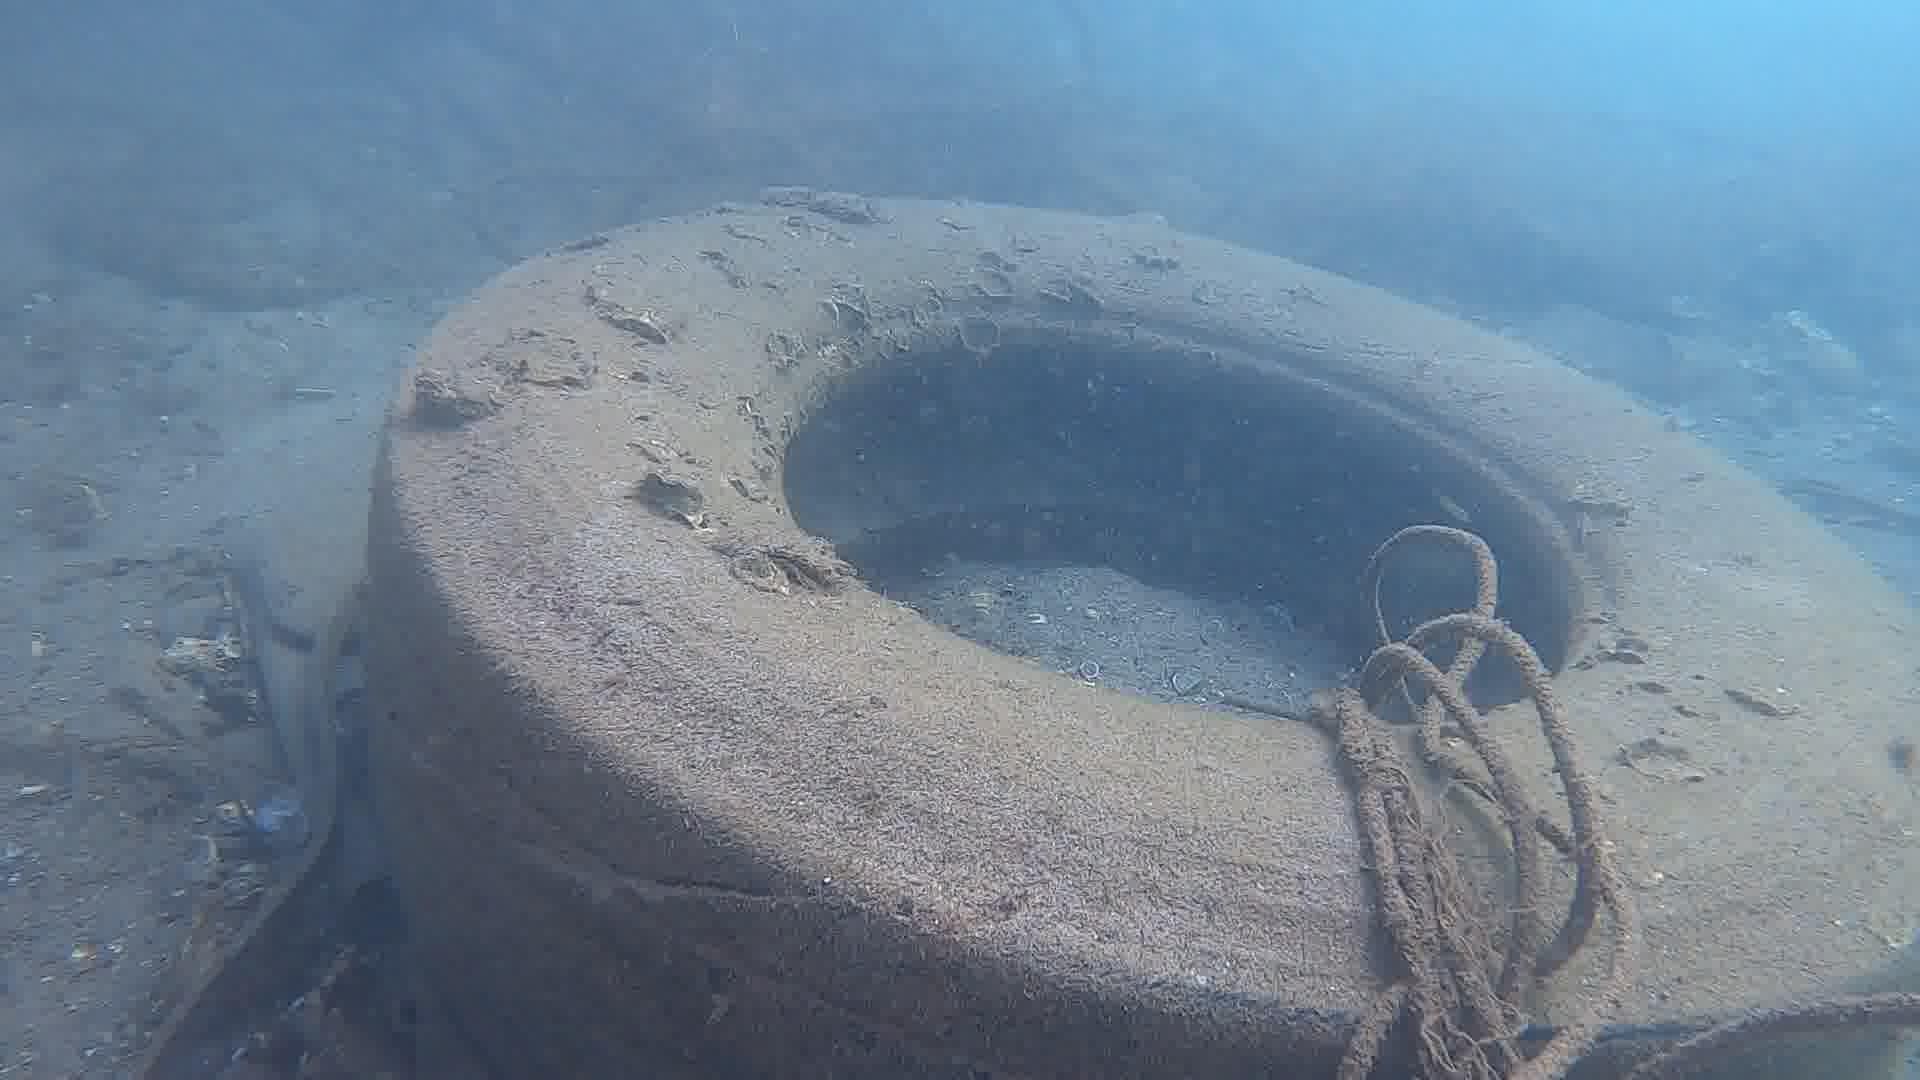bundle of ropes: (1303, 520, 1640, 1080)
tire: (363, 193, 1920, 1080)
